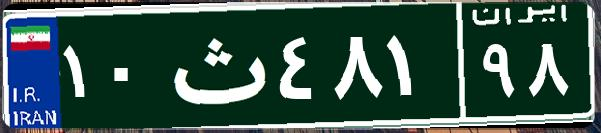0: (110, 28, 158, 105)
1: (385, 28, 445, 110), (57, 26, 110, 107)
4: (273, 28, 330, 110)
8: (330, 28, 385, 110), (525, 38, 570, 115)
9: (475, 38, 525, 113)
ث: (158, 15, 273, 115)
